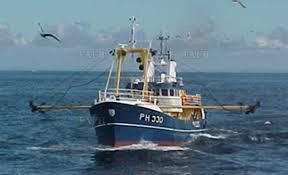Ship: (34, 17, 256, 151)
